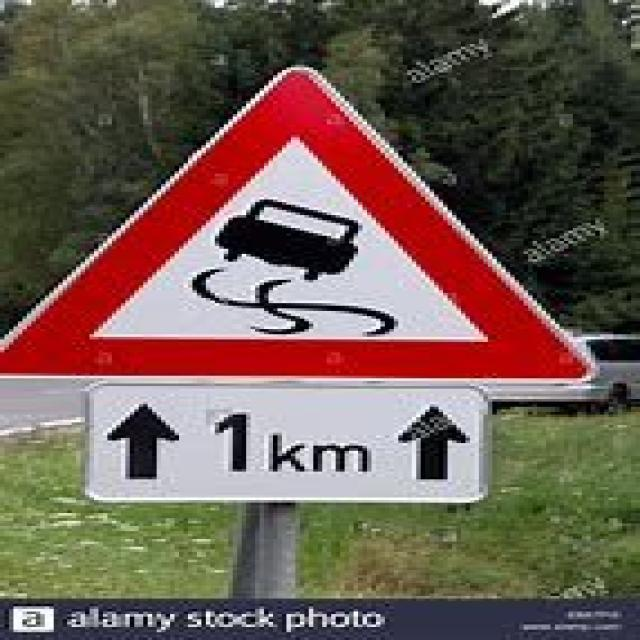slippery road: (23, 66, 593, 379)
